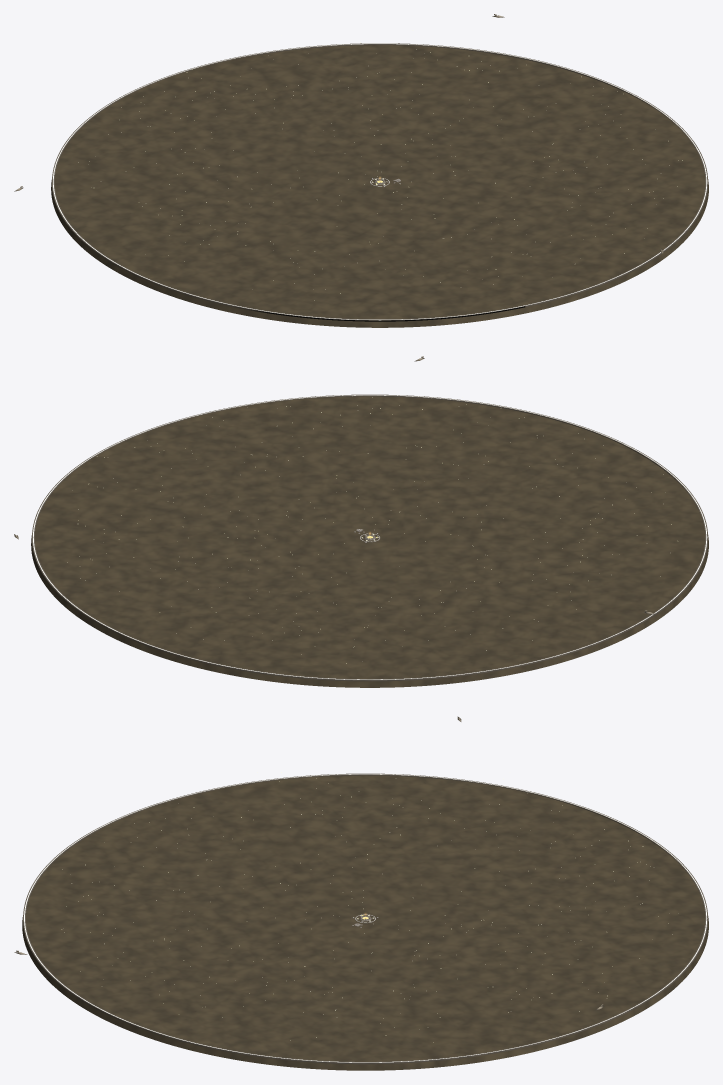
File: people.glb
The picture shows the model from 3 angles, top to bottom: view 1: azimuth 30°, elevation 25°; view 2: azimuth 150°, elevation 25°; view 3: azimuth 270°, elevation 25°; orthographic projection. The views are drawn at different scales.
Parts seen in each view (by area): view 1: field_terrain, field_ring_band, field_ring_inlay; view 2: field_terrain, field_ring_band, field_ring_inlay; view 3: field_terrain, field_ring_band, field_ring_inlay.
Part boxes in pixels (<box>): field_terrain: <box>51,45,708,327</box>; field_ring_band: <box>52,43,708,321</box>; field_ring_inlay: <box>53,43,707,320</box>; field_terrain: <box>31,396,708,687</box>; field_ring_band: <box>32,394,707,681</box>; field_ring_inlay: <box>33,395,707,679</box>; field_terrain: <box>22,775,708,1070</box>; field_ring_band: <box>23,773,707,1064</box>; field_ring_inlay: <box>24,774,707,1062</box>.
Size of the model in its own units: 1287 by 92.6 by 1222.
17 materials, 6 textured.
